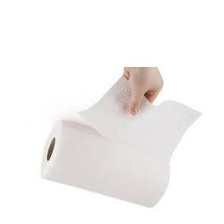tissue: (35, 69, 207, 213)
